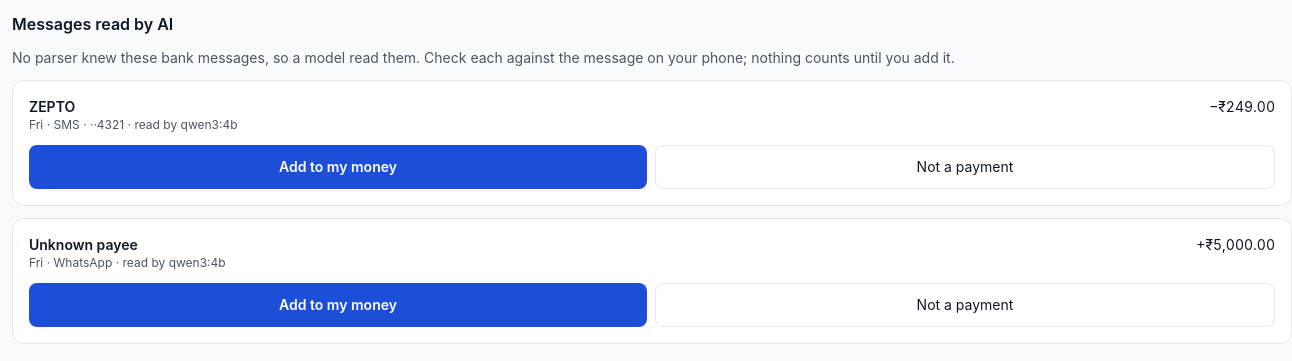
Test: Review → messages read by AI (AOS-705) › not a payment dismisses it
Click the button "Not a payment" below "₹5,000.00".
click(965, 305)  # box [655,283,1275,327]
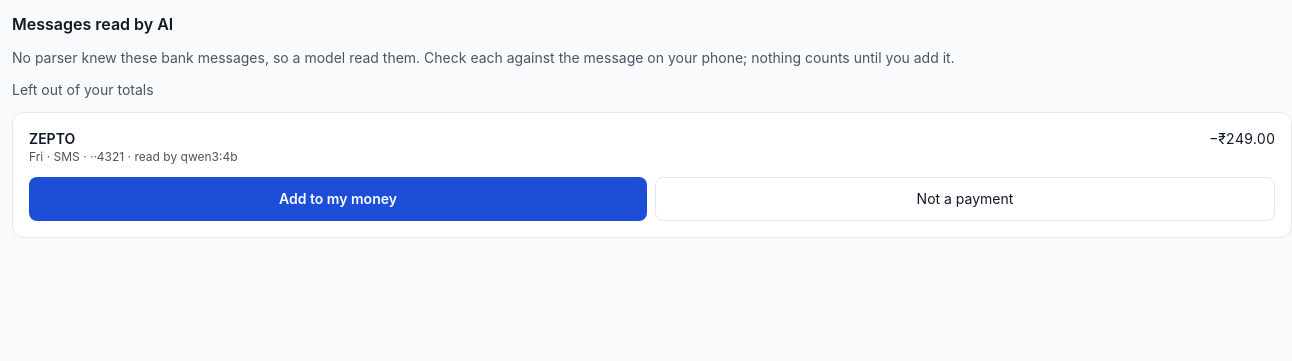
Result: the message reads "Left out of your totals" at [12,81,154,98]
